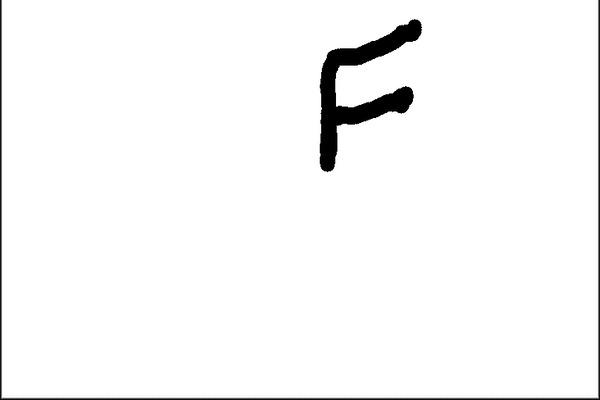F: (312, 14, 428, 172)
